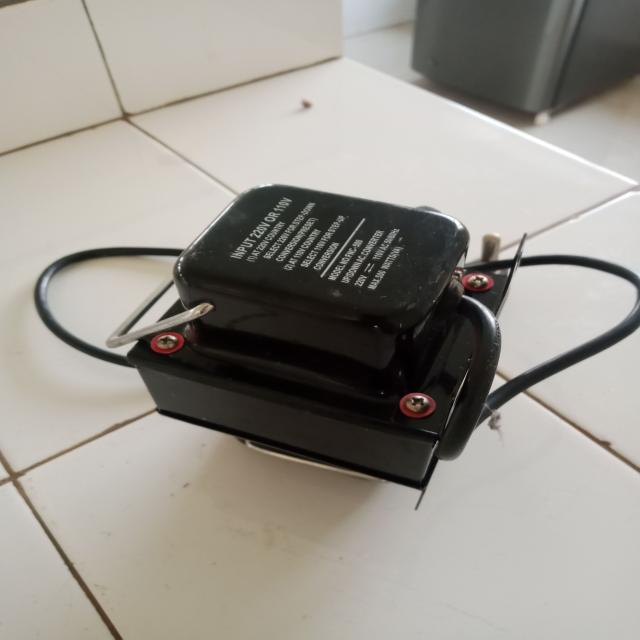Stepdown Transformer: (135, 188, 530, 492)
